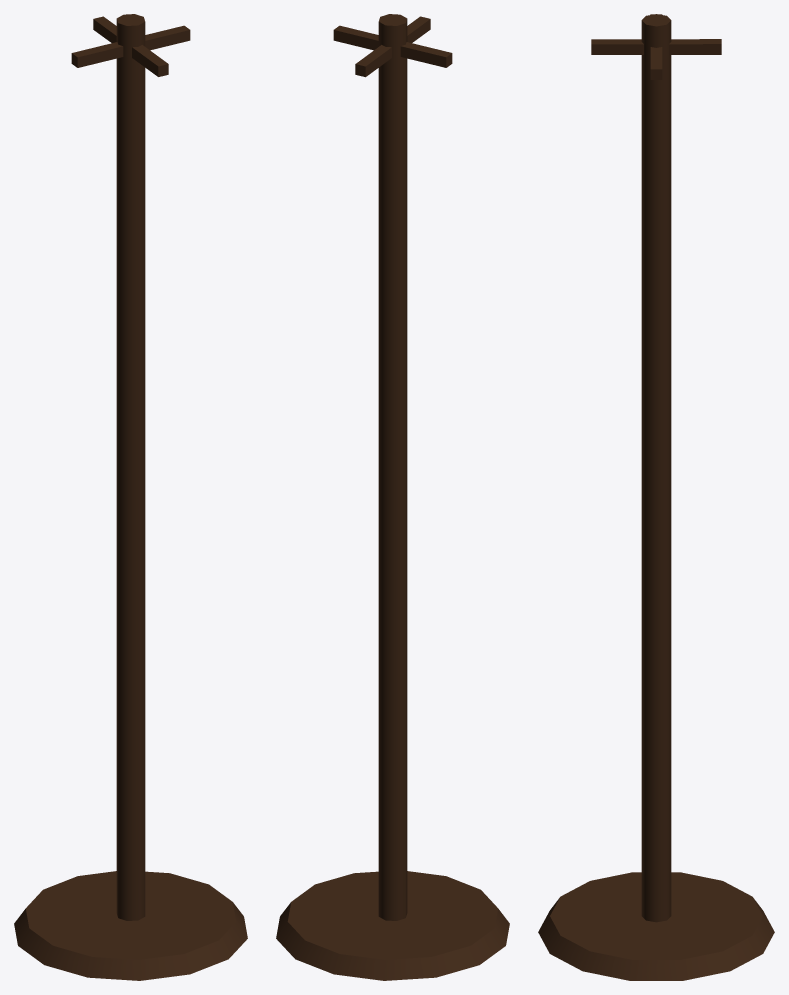
File: coat-rack.glb
3 views of the same model, side by side, from view 1: azimuth 30°, elevation 25°; view 2: azimuth 150°, elevation 25°; view 3: azimuth 270°, elevation 25° (orthographic).
Parts seen in each view (by area): view 1: coat-rack; view 2: coat-rack; view 3: coat-rack.
Part boxes in pixels (x1,y1,x2,y2): coat-rack: (14, 14, 247, 980); coat-rack: (276, 14, 509, 980); coat-rack: (538, 14, 774, 980).
Bounding box in the file's own units: 0.39 × 1.7 × 0.4.
